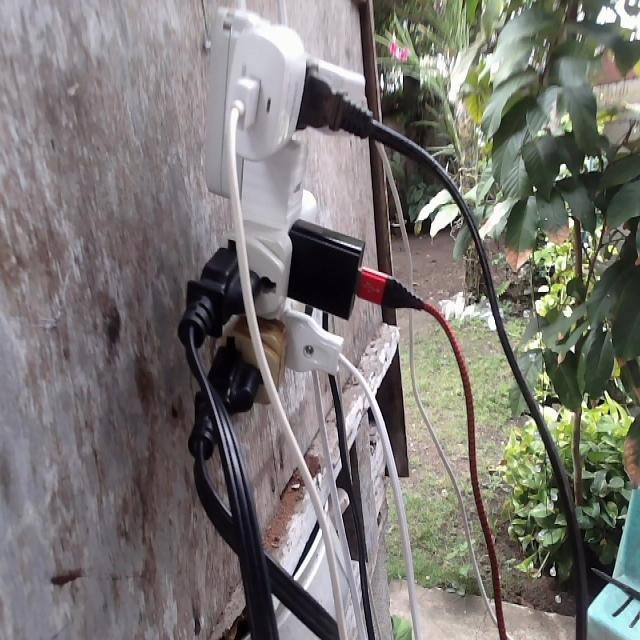-: (181, 9, 411, 463)
